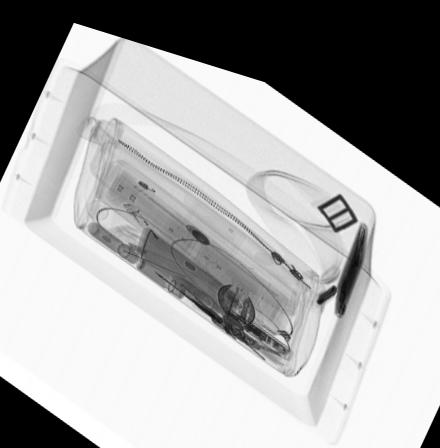Lighter: (118, 195, 176, 251)
